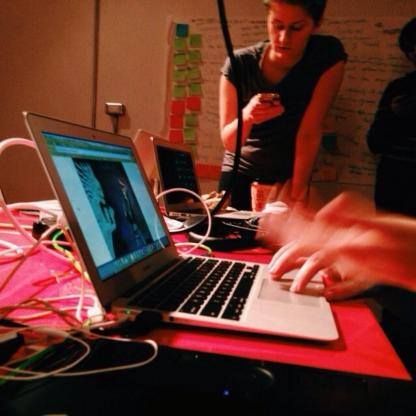board: (23, 111, 340, 343), (152, 138, 234, 214)
